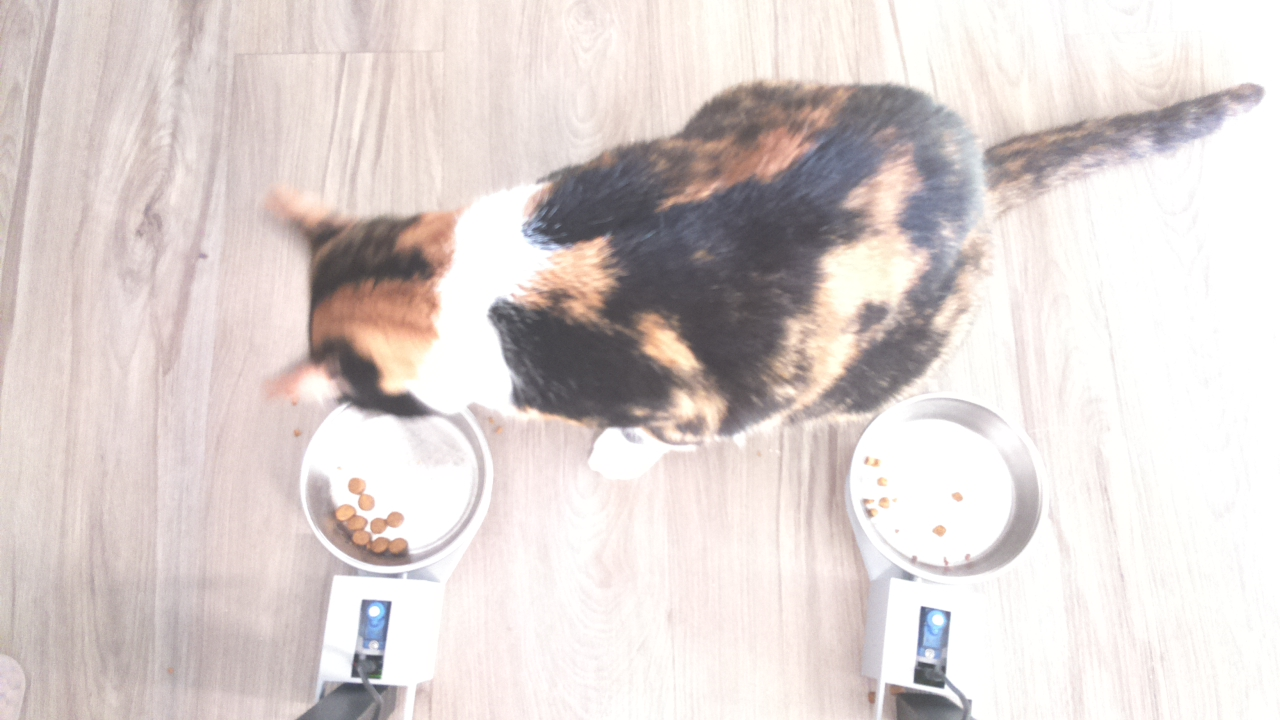bella: (243, 173, 512, 419)
open_bowl: (849, 392, 1051, 579), (304, 409, 490, 576)
